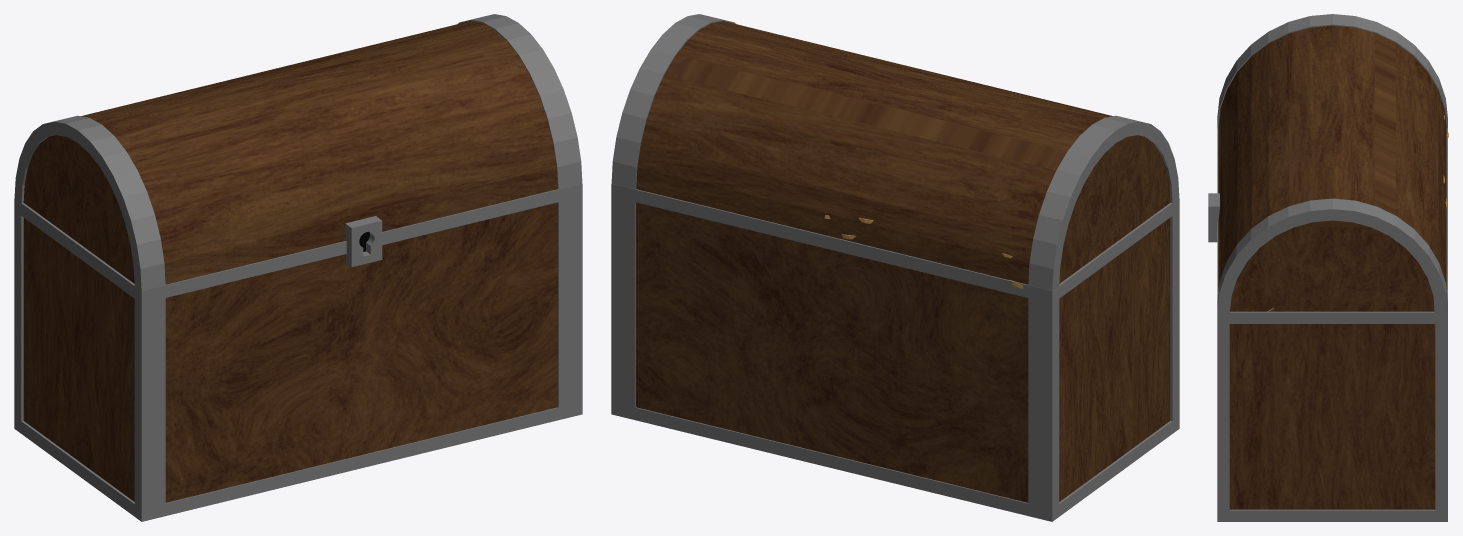
The model's file is TreasureChest.fbx.
3 renders of one model, left to right at view 1: azimuth 30°, elevation 25°; view 2: azimuth 150°, elevation 25°; view 3: azimuth 270°, elevation 25°, orthographic. The views are drawn at different scales.
Visible parts, largest first — view 1: Chest, Lid, Chest_Metal, Lid_Metal, Lock; view 2: Chest, Lid, Chest_Metal, Lid_Metal; view 3: Lid, Chest, Chest_Metal, Lid_Metal, Lock.
Boxes of the visible parts, <box> form: Chest: <box>23,202,557,502</box>; Lid: <box>23,21,557,284</box>; Chest_Metal: <box>14,183,582,521</box>; Lid_Metal: <box>14,14,582,291</box>; Lock: <box>345,216,382,267</box>; Chest: <box>636,202,1170,502</box>; Lid: <box>636,21,1170,284</box>; Chest_Metal: <box>611,183,1179,521</box>; Lid_Metal: <box>611,14,1179,292</box>; Lid: <box>1218,25,1446,311</box>; Chest: <box>1229,324,1435,509</box>; Chest_Metal: <box>1217,128,1447,521</box>; Lid_Metal: <box>1217,14,1447,314</box>; Lock: <box>1208,193,1219,242</box>.
Size of the model in its own units: 210 by 404 by 302.
Materials: 4 (1 with a texture image).
